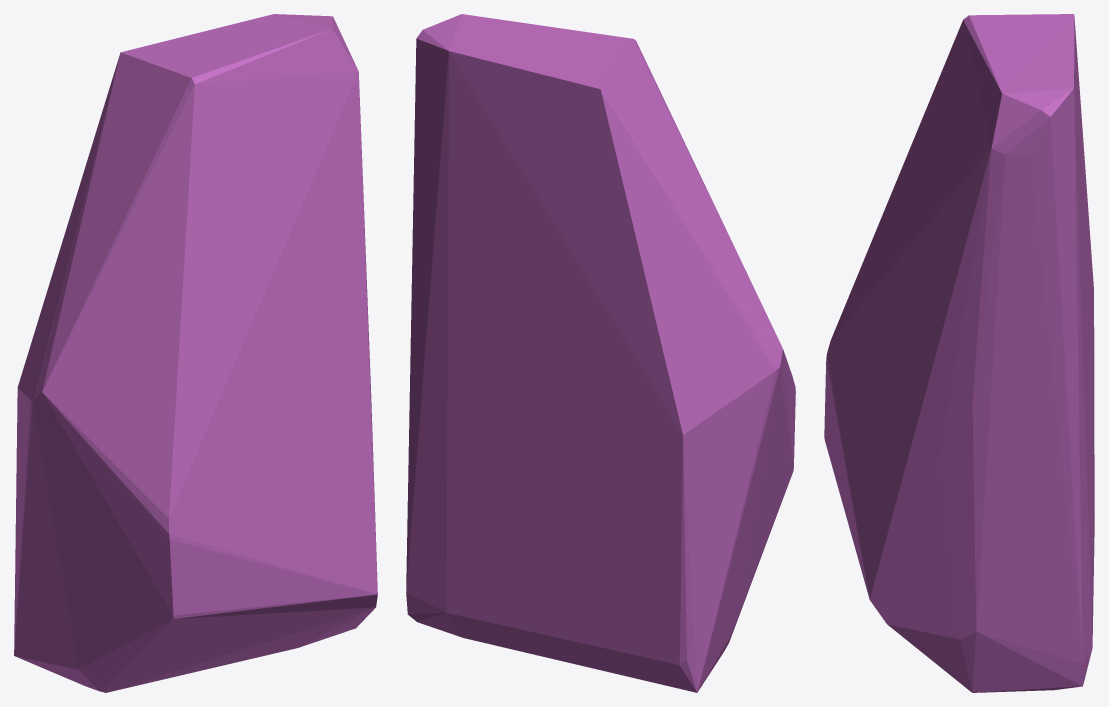
Rendered from pump_infusion_a01.glb.
3 renders of one model, left to right at view 1: azimuth 30°, elevation 25°; view 2: azimuth 150°, elevation 25°; view 3: azimuth 270°, elevation 25°, orthographic.
Visible parts, largest first — view 1: geometry_0; view 2: geometry_0; view 3: geometry_0.
Part boxes in pixels (<box>): geometry_0: <box>14,14,377,692</box>; geometry_0: <box>406,14,795,692</box>; geometry_0: <box>824,14,1094,692</box>.
Bounding box in the file's own units: 0.282 × 0.4772 × 0.196.
